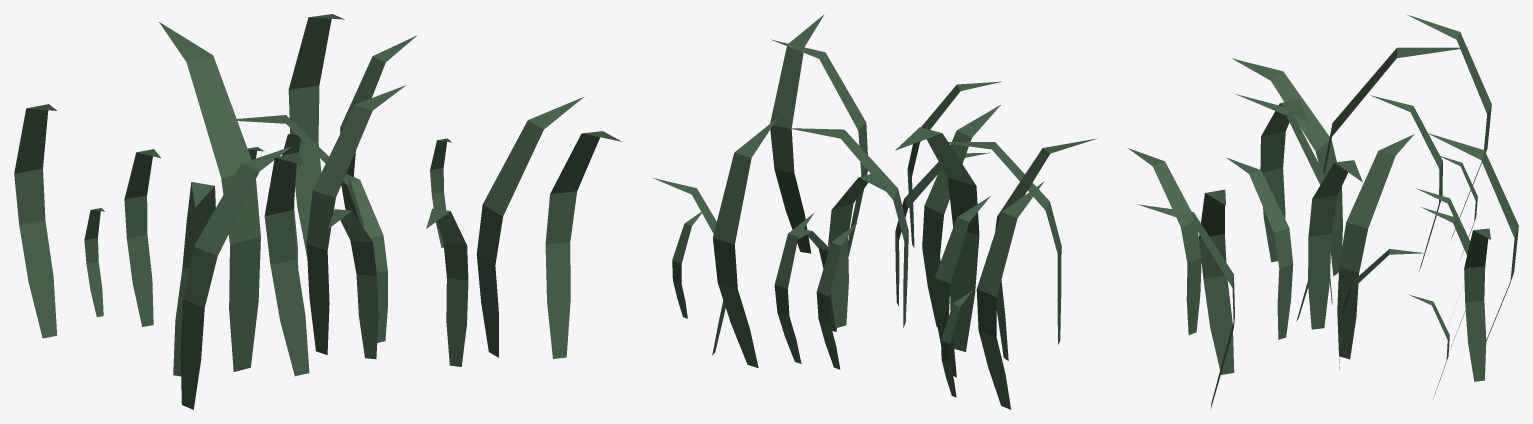
The model's file is Grama.fbx.
The picture shows the model from 3 angles, left to right: view 1: azimuth 30°, elevation 25°; view 2: azimuth 150°, elevation 25°; view 3: azimuth 270°, elevation 25°; orthographic projection. The views are drawn at different scales.
Visible parts, largest first — view 1: Plano.016; view 2: Plano.016; view 3: Plano.016.
Part boxes in pixels (<box>): Plano.016: <box>14,14,622,409</box>; Plano.016: <box>653,14,1096,409</box>; Plano.016: <box>1128,14,1518,409</box>.
Size of the model in its own units: 263 by 179 by 242.
Materials: 1 (1 with a texture image).
